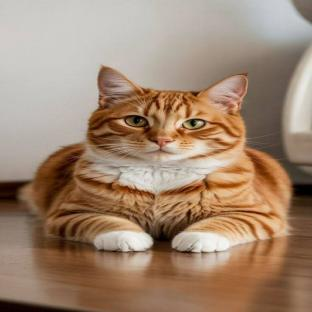Animal: (20, 66, 291, 253)
